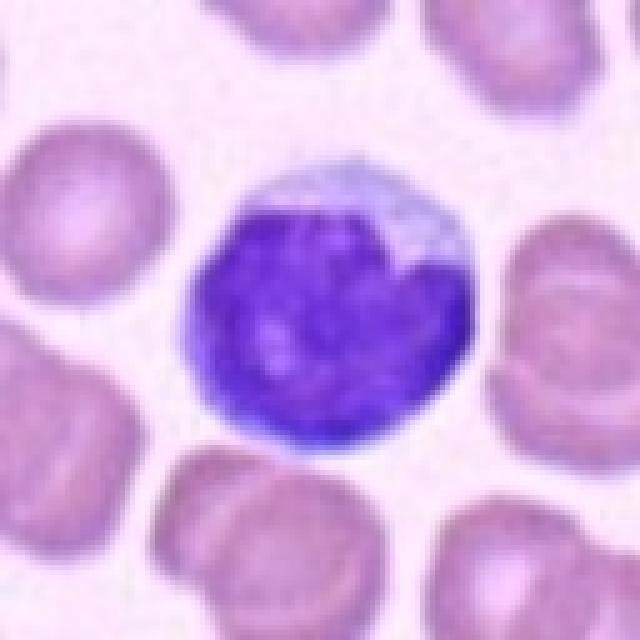lympho: (179, 145, 485, 461)
